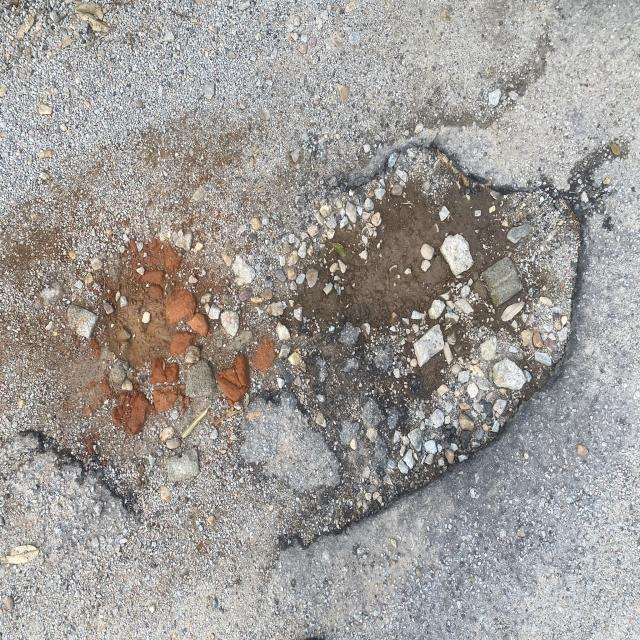Pothole: (13, 149, 640, 531)
